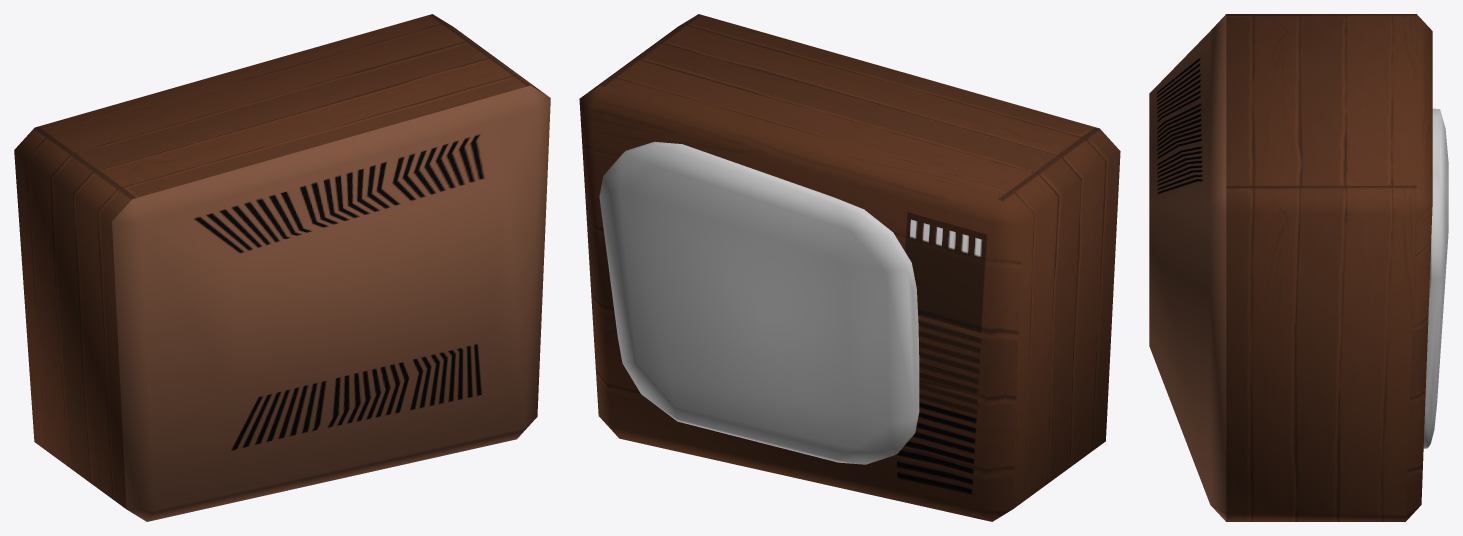
File: Old_TV.fbx
3 renders of one model, left to right at view 1: azimuth 30°, elevation 25°; view 2: azimuth 150°, elevation 25°; view 3: azimuth 270°, elevation 25°, orthographic. The views are drawn at different scales.
Parts seen in each view (by area): view 1: Old_TV; view 2: Old_TV, Screen; view 3: Old_TV, Screen.
Boxes of the visible parts, box(x1,y1,x2,y2) form: Old_TV: box(14, 14, 550, 521); Old_TV: box(579, 14, 1120, 521); Screen: box(599, 141, 919, 464); Old_TV: box(1149, 14, 1432, 521); Screen: box(1423, 108, 1448, 448).
Size of the model in its own units: 165 by 126 by 100.
